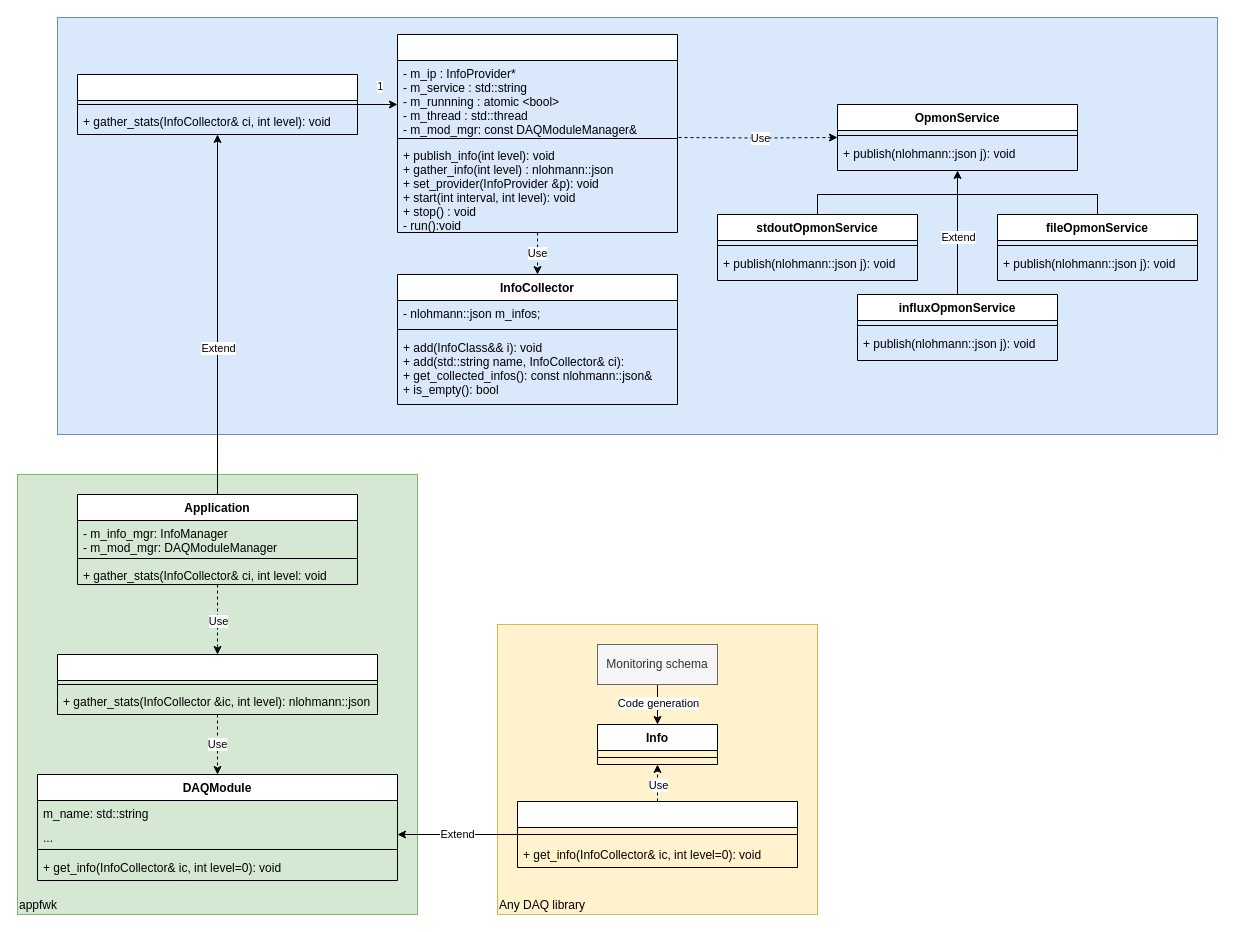
Some shapes in this 1235 by 932 pixel diagram are drawn without their labels. Here are the shapes that lost their labels. From the top down, the box of each, then its label:
(76, 74, 358, 134): InfoProvider
(396, 34, 678, 232): InfoManager
(56, 16, 1218, 434): opmonlib
(56, 654, 378, 714): DAQModuleManager
(516, 800, 798, 868): AnyModule
